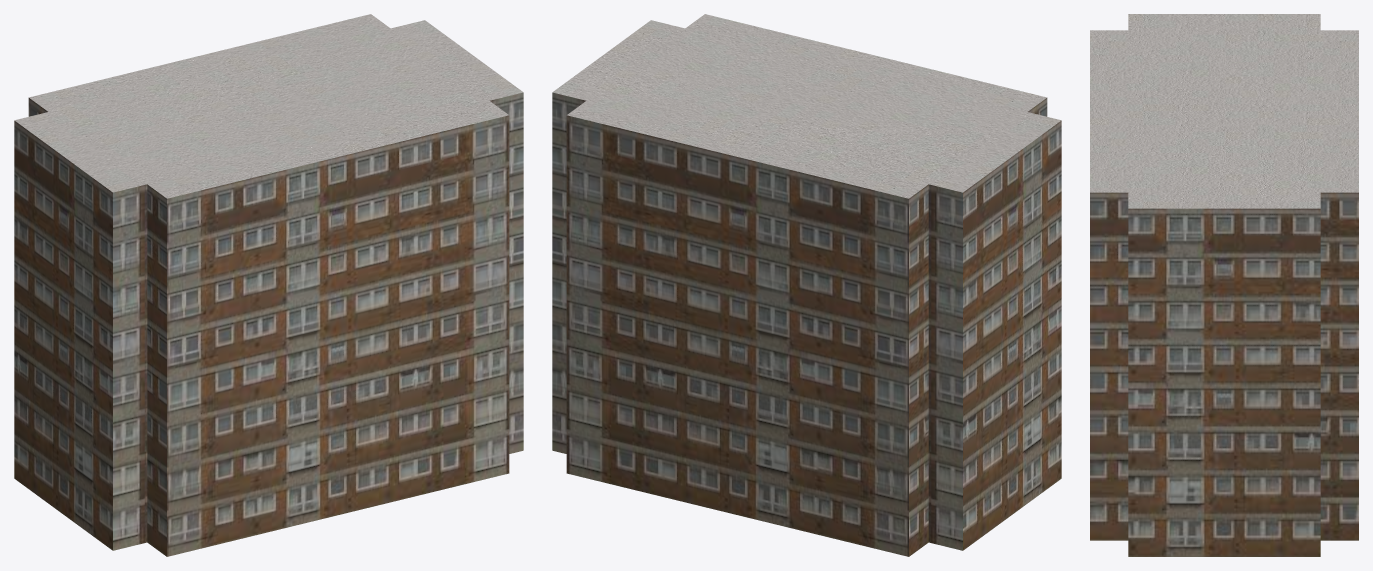
3 renders of one model, left to right at view 1: azimuth 30°, elevation 25°; view 2: azimuth 150°, elevation 25°; view 3: azimuth 270°, elevation 25°, orthographic. The views are drawn at different scales.
Visible parts, largest first — view 1: building2, building2_cell, building2_cell.001; view 2: building2, building2_cell.001, building2_cell; view 3: building2, building2_cell.001, building2_cell.
Part boxes in pixels (x1,y1,x2,y2): building2: [14, 14, 523, 556]; building2_cell: [14, 228, 523, 556]; building2_cell.001: [14, 14, 523, 357]; building2: [552, 14, 1061, 556]; building2_cell.001: [552, 14, 1061, 463]; building2_cell: [763, 323, 1027, 552]; building2: [1090, 14, 1358, 556]; building2_cell.001: [1090, 14, 1358, 442]; building2_cell: [1090, 304, 1358, 556].
Size of the model in its own units: 2.7 by 2.25 by 1.58.
2 materials, 2 textured.
